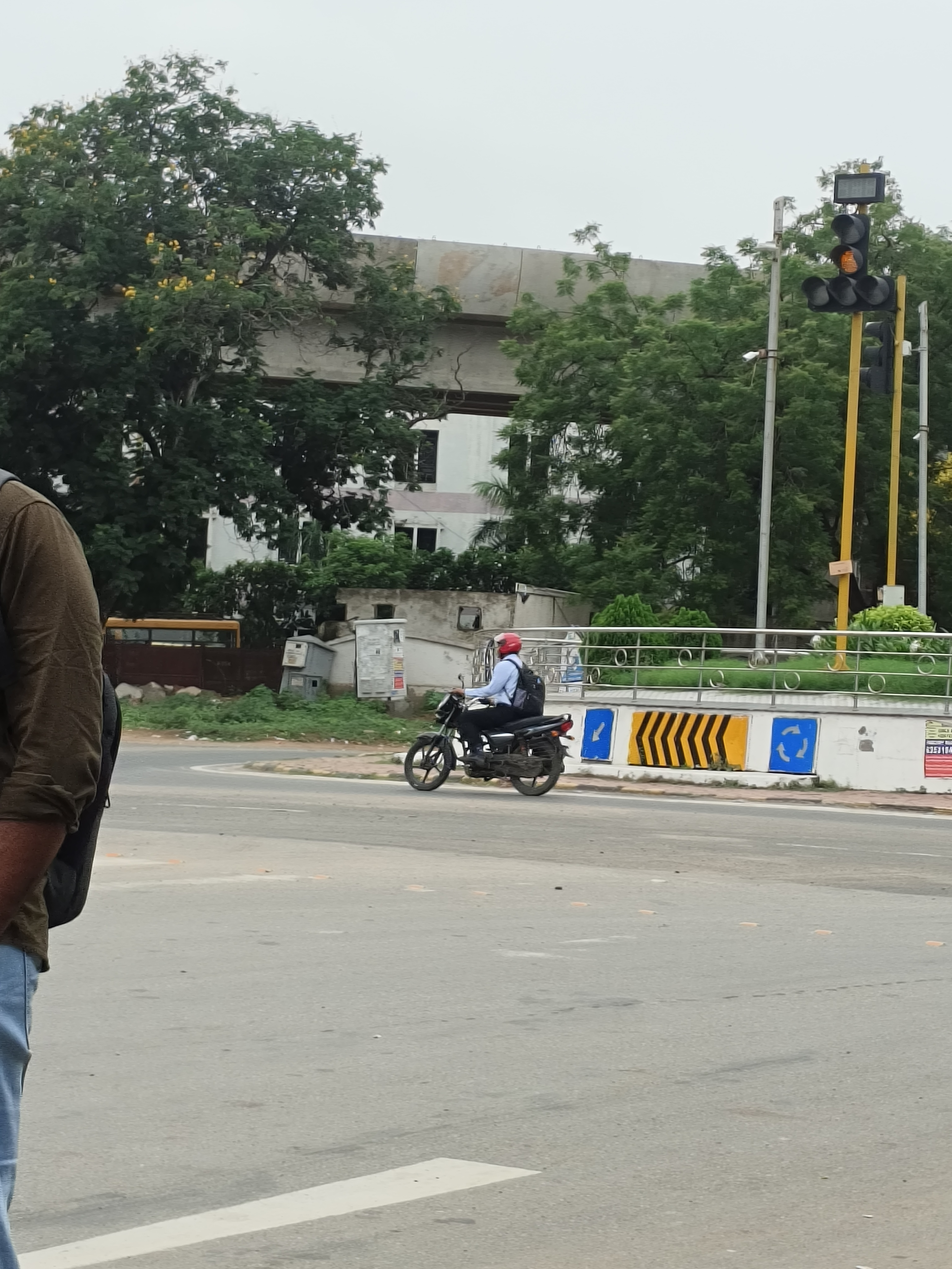BikeWithRider: (387, 622, 593, 798)
Helmet: (486, 622, 538, 669)
